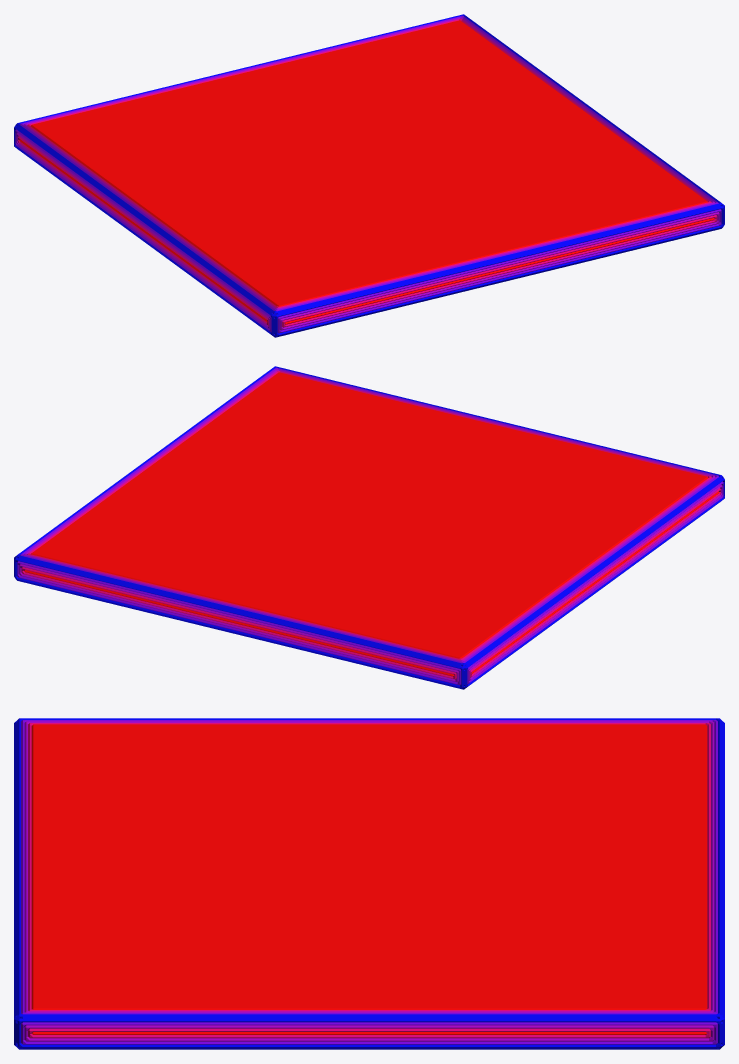
The model's file is demo_plate.glb.
3 renders of one model, top to bottom at view 1: azimuth 30°, elevation 25°; view 2: azimuth 150°, elevation 25°; view 3: azimuth 270°, elevation 25°, orthographic. The views are drawn at different scales.
Visible parts, largest first — view 1: Object.005, Object, Object.001, Object.002, Object.004; view 2: Object.005, Object, Object.001, Object.002, Object.004; view 3: Object.005, Object, Object.001, Object.002, Object.004.
Boxes of the visible parts, box(x1,y1,x2,y2) form: Object.005: box(19, 20, 714, 324); Object: box(14, 14, 724, 337); Object.001: box(15, 15, 721, 333); Object.002: box(16, 17, 719, 330); Object.004: box(18, 19, 717, 327); Object.005: box(24, 372, 719, 676); Object: box(14, 366, 724, 689); Object.001: box(17, 367, 723, 685); Object.002: box(19, 369, 722, 682); Object.004: box(21, 371, 720, 679); Object.005: box(31, 724, 707, 1034); Object: box(14, 718, 724, 1049); Object.001: box(21, 720, 717, 1044); Object.002: box(24, 721, 714, 1041); Object.004: box(28, 723, 710, 1038).
Size of the model in its own units: 201 by 11 by 201.
